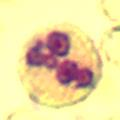neutrophil: (18, 24, 111, 108)
